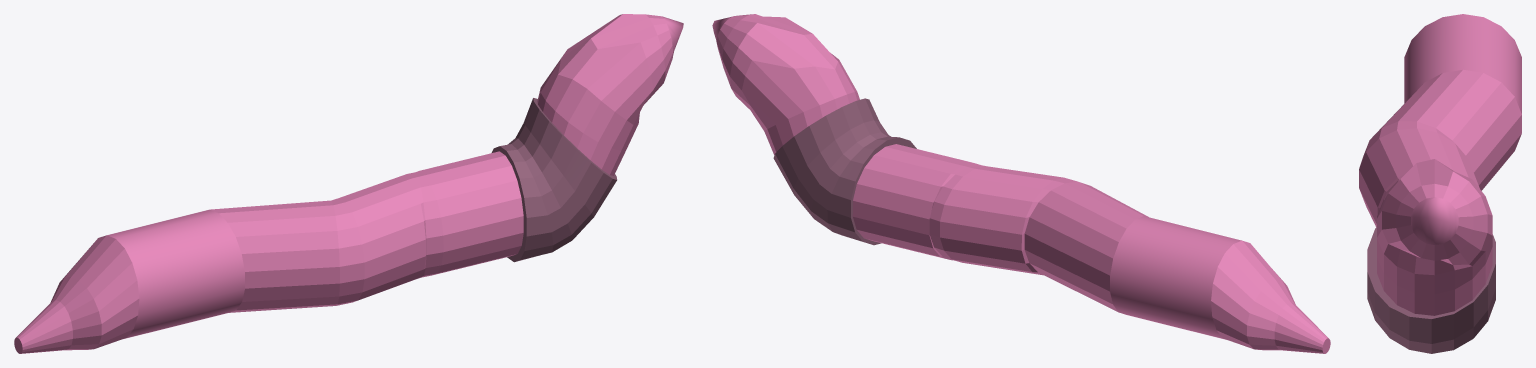
Rendered from worm.fbx.
3 renders of one model, left to right at view 1: azimuth 30°, elevation 25°; view 2: azimuth 150°, elevation 25°; view 3: azimuth 270°, elevation 25°, orthographic. The views are drawn at different scales.
Parts seen in each view (by area): view 1: pCylinder1, pasted__pCylinder1; view 2: pCylinder1, pasted__pCylinder1; view 3: pCylinder1, pasted__pCylinder1.
Boxes of the visible parts, left/top/right/bottom form: pCylinder1: left=14, top=14, right=683, bottom=353; pasted__pCylinder1: left=491, top=98, right=617, bottom=262; pCylinder1: left=712, top=14, right=1330, bottom=353; pasted__pCylinder1: left=773, top=98, right=916, bottom=245; pCylinder1: left=1359, top=14, right=1521, bottom=315; pasted__pCylinder1: left=1367, top=227, right=1495, bottom=353.
Bounding box in the file's own units: 4.94 × 1.49 × 0.9479.
